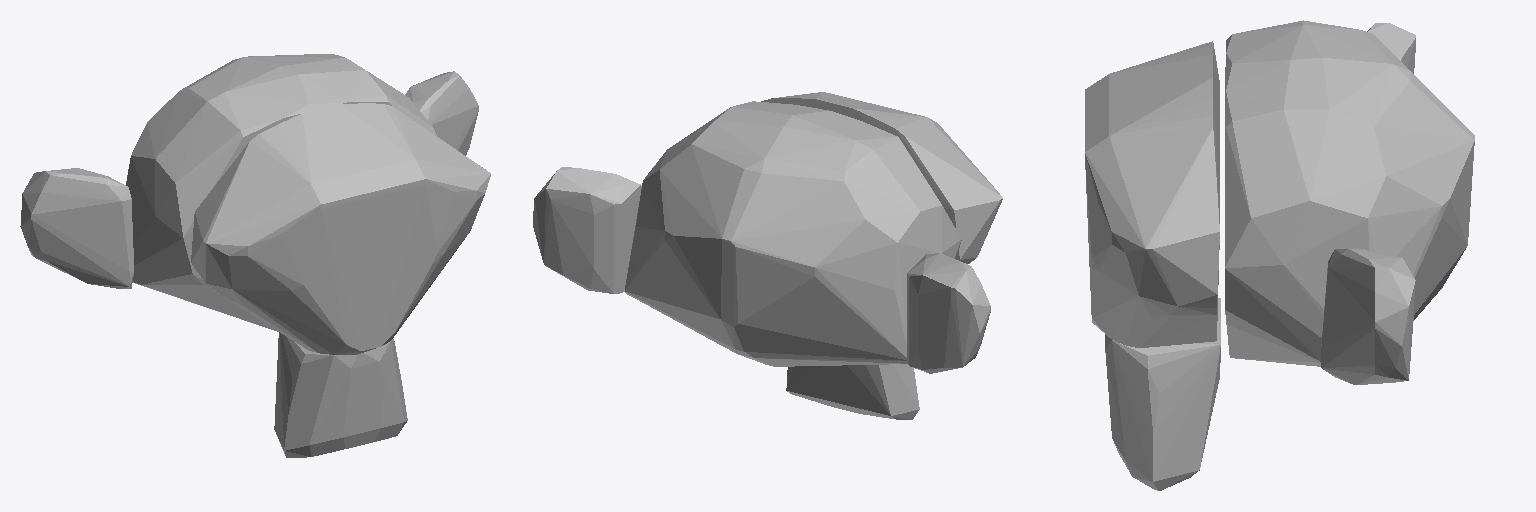
The robot description file, URDF, robot "root":
<robot name="root">
  <link name="link_ycb~monkeyHead_convex_piece_0">
    <inertial>
      <origin xyz="0 0 0" rpy="0 0 0"/>
      <mass value="6.14E-03"/>
      <inertia ixx="1.28E-06" ixy="-2.70E-06" ixz="1.72E-07" iyy="6.79E-06" iyz="6.83E-08" izz="7.76E-06"/>
    </inertial>
    <visual>
      <origin xyz="0 0 0" rpy="0 0 0"/>
      <geometry>
        <mesh filename="ycb~monkeyHead_convex_piece_0.obj" scale="1.0000E+00 1.0000E+00 1.0000E+00"/>
      </geometry>
      <material name="">
        <color rgba="7.50E-01 7.50E-01 7.50E-01 1"/>
      </material>
    </visual>
    <collision>
      <origin xyz="0 0 0" rpy="0 0 0"/>
      <geometry>
        <mesh filename="ycb~monkeyHead_convex_piece_0.obj" scale="1.0000E+00 1.0000E+00 1.0000E+00"/>
      </geometry>
    </collision>
  </link>
  <link name="link_ycb~monkeyHead_convex_piece_1">
    <inertial>
      <origin xyz="0 0 0" rpy="0 0 0"/>
      <mass value="1.44E-01"/>
      <inertia ixx="2.98E-05" ixy="5.44E-09" ixz="1.38E-08" iyy="3.60E-05" iyz="-1.64E-06" izz="3.83E-05"/>
    </inertial>
    <visual>
      <origin xyz="0 0 0" rpy="0 0 0"/>
      <geometry>
        <mesh filename="ycb~monkeyHead_convex_piece_1.obj" scale="1.0000E+00 1.0000E+00 1.0000E+00"/>
      </geometry>
      <material name="">
        <color rgba="7.50E-01 7.50E-01 7.50E-01 1"/>
      </material>
    </visual>
    <collision>
      <origin xyz="0 0 0" rpy="0 0 0"/>
      <geometry>
        <mesh filename="ycb~monkeyHead_convex_piece_1.obj" scale="1.0000E+00 1.0000E+00 1.0000E+00"/>
      </geometry>
    </collision>
  </link>
  <joint name="link_ycb~monkeyHead_convex_piece_1_joint" type="fixed">
    <origin xyz="0 0 0" rpy="0 0 0"/>
    <parent link="link_ycb~monkeyHead_convex_piece_0"/>
    <child link="link_ycb~monkeyHead_convex_piece_1"/>
  </joint>
  <link name="link_ycb~monkeyHead_convex_piece_2">
    <inertial>
      <origin xyz="0 0 0" rpy="0 0 0"/>
      <mass value="6.14E-03"/>
      <inertia ixx="1.29E-06" ixy="2.70E-06" ixz="-1.71E-07" iyy="6.79E-06" iyz="6.77E-08" izz="7.76E-06"/>
    </inertial>
    <visual>
      <origin xyz="0 0 0" rpy="0 0 0"/>
      <geometry>
        <mesh filename="ycb~monkeyHead_convex_piece_2.obj" scale="1.0000E+00 1.0000E+00 1.0000E+00"/>
      </geometry>
      <material name="">
        <color rgba="7.50E-01 7.50E-01 7.50E-01 1"/>
      </material>
    </visual>
    <collision>
      <origin xyz="0 0 0" rpy="0 0 0"/>
      <geometry>
        <mesh filename="ycb~monkeyHead_convex_piece_2.obj" scale="1.0000E+00 1.0000E+00 1.0000E+00"/>
      </geometry>
    </collision>
  </link>
  <joint name="link_ycb~monkeyHead_convex_piece_2_joint" type="fixed">
    <origin xyz="0 0 0" rpy="0 0 0"/>
    <parent link="link_ycb~monkeyHead_convex_piece_1"/>
    <child link="link_ycb~monkeyHead_convex_piece_2"/>
  </joint>
  <link name="link_ycb~monkeyHead_convex_piece_3">
    <inertial>
      <origin xyz="0 0 0" rpy="0 0 0"/>
      <mass value="6.78E-02"/>
      <inertia ixx="2.10E-05" ixy="-1.05E-08" ixz="-1.08E-08" iyy="1.39E-05" iyz="1.27E-06" izz="2.50E-05"/>
    </inertial>
    <visual>
      <origin xyz="0 0 0" rpy="0 0 0"/>
      <geometry>
        <mesh filename="ycb~monkeyHead_convex_piece_3.obj" scale="1.0000E+00 1.0000E+00 1.0000E+00"/>
      </geometry>
      <material name="">
        <color rgba="7.50E-01 7.50E-01 7.50E-01 1"/>
      </material>
    </visual>
    <collision>
      <origin xyz="0 0 0" rpy="0 0 0"/>
      <geometry>
        <mesh filename="ycb~monkeyHead_convex_piece_3.obj" scale="1.0000E+00 1.0000E+00 1.0000E+00"/>
      </geometry>
    </collision>
  </link>
  <joint name="link_ycb~monkeyHead_convex_piece_3_joint" type="fixed">
    <origin xyz="0 0 0" rpy="0 0 0"/>
    <parent link="link_ycb~monkeyHead_convex_piece_2"/>
    <child link="link_ycb~monkeyHead_convex_piece_3"/>
  </joint>
  <link name="link_ycb~monkeyHead_convex_piece_4">
    <inertial>
      <origin xyz="0 0 0" rpy="0 0 0"/>
      <mass value="1.49E-02"/>
      <inertia ixx="1.35E-05" ixy="1.85E-11" ixz="1.40E-10" iyy="1.07E-05" iyz="-5.47E-06" izz="3.58E-06"/>
    </inertial>
    <visual>
      <origin xyz="0 0 0" rpy="0 0 0"/>
      <geometry>
        <mesh filename="ycb~monkeyHead_convex_piece_4.obj" scale="1.0000E+00 1.0000E+00 1.0000E+00"/>
      </geometry>
      <material name="">
        <color rgba="7.50E-01 7.50E-01 7.50E-01 1"/>
      </material>
    </visual>
    <collision>
      <origin xyz="0 0 0" rpy="0 0 0"/>
      <geometry>
        <mesh filename="ycb~monkeyHead_convex_piece_4.obj" scale="1.0000E+00 1.0000E+00 1.0000E+00"/>
      </geometry>
    </collision>
  </link>
  <joint name="link_ycb~monkeyHead_convex_piece_4_joint" type="fixed">
    <origin xyz="0 0 0" rpy="0 0 0"/>
    <parent link="link_ycb~monkeyHead_convex_piece_3"/>
    <child link="link_ycb~monkeyHead_convex_piece_4"/>
  </joint>
</robot>

--- Facts derived from the render (not from the file) ---
3 views of the same robot in one strip: view 1: azimuth 30°, elevation 25°; view 2: azimuth 150°, elevation 25°; view 3: azimuth 270°, elevation 25° (orthographic).
Robot: root — 5 links, 4 joints (4 fixed); root link link_ycb~monkeyHead_convex_piece_0; default pose: all joints at 0.
Visible links, largest first — view 1: link_ycb~monkeyHead_convex_piece_3, link_ycb~monkeyHead_convex_piece_1, link_ycb~monkeyHead_convex_piece_4, link_ycb~monkeyHead_convex_piece_2, link_ycb~monkeyHead_convex_piece_0; view 2: link_ycb~monkeyHead_convex_piece_1, link_ycb~monkeyHead_convex_piece_0, link_ycb~monkeyHead_convex_piece_3, link_ycb~monkeyHead_convex_piece_2, link_ycb~monkeyHead_convex_piece_4; view 3: link_ycb~monkeyHead_convex_piece_1, link_ycb~monkeyHead_convex_piece_3, link_ycb~monkeyHead_convex_piece_4, link_ycb~monkeyHead_convex_piece_0, link_ycb~monkeyHead_convex_piece_2.
Link boxes in pixels (x1=…): link_ycb~monkeyHead_convex_piece_3: x1=191, y1=103, x2=490, y2=354; link_ycb~monkeyHead_convex_piece_1: x1=126, y1=54, x2=436, y2=331; link_ycb~monkeyHead_convex_piece_4: x1=274, y1=332, x2=407, y2=457; link_ycb~monkeyHead_convex_piece_2: x1=20, y1=168, x2=133, y2=288; link_ycb~monkeyHead_convex_piece_0: x1=405, y1=71, x2=478, y2=155; link_ycb~monkeyHead_convex_piece_1: x1=625, y1=101, x2=961, y2=366; link_ycb~monkeyHead_convex_piece_0: x1=533, y1=167, x2=641, y2=293; link_ycb~monkeyHead_convex_piece_3: x1=761, y1=92, x2=1002, y2=263; link_ycb~monkeyHead_convex_piece_2: x1=907, y1=253, x2=990, y2=373; link_ycb~monkeyHead_convex_piece_4: x1=786, y1=364, x2=919, y2=419; link_ycb~monkeyHead_convex_piece_1: x1=1225, y1=20, x2=1474, y2=366; link_ycb~monkeyHead_convex_piece_3: x1=1085, y1=41, x2=1219, y2=347; link_ycb~monkeyHead_convex_piece_4: x1=1105, y1=298, x2=1220, y2=490; link_ycb~monkeyHead_convex_piece_0: x1=1321, y1=248, x2=1415, y2=384; link_ycb~monkeyHead_convex_piece_2: x1=1367, y1=23, x2=1415, y2=73.
Size in the robot's own frame: 0.0829 by 0.051 by 0.0581 metres.
Meshes: 5 distinct files referenced, 5 mesh visuals loaded (5 OBJ).